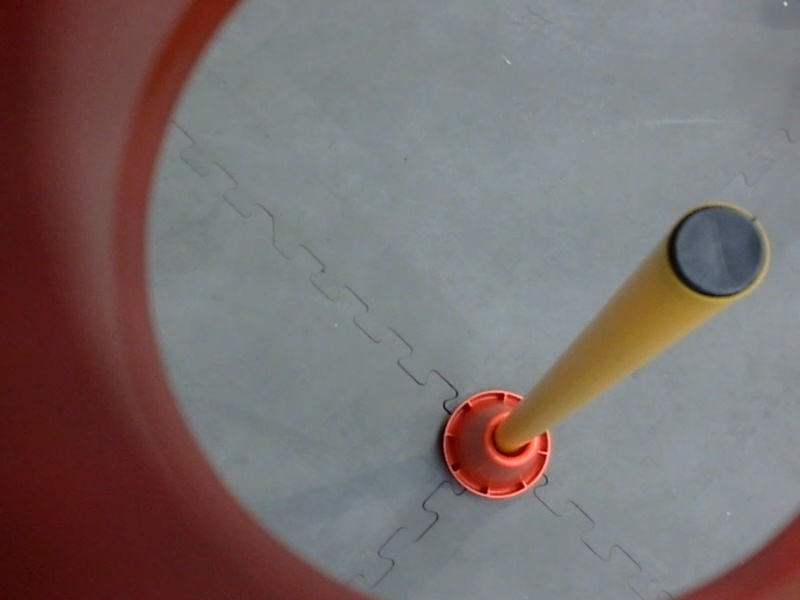tip: (659, 192, 776, 306)
